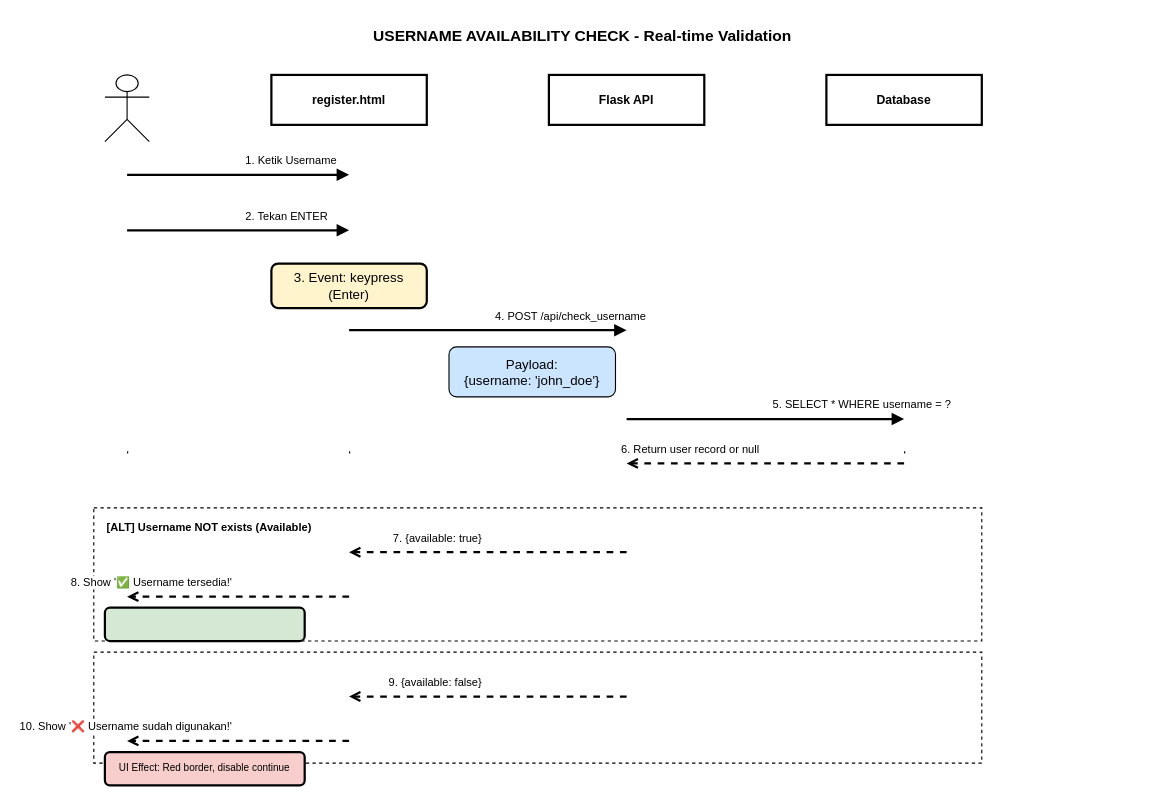
Image size: 1156x805. Some labels were removed from this diagram. The centre of each missing label's shape, as x and y in pixels:
"[ELSE] Username EXISTS (Taken)" goes at point 537,707.
"Pengguna" goes at point 126,108.
"UI Effect: Green border, enable continue" goes at point 204,624.
